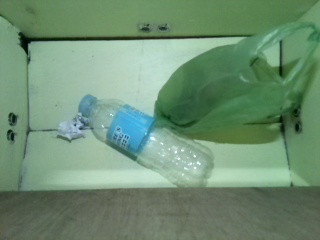bottle: (77, 93, 214, 189)
paper: (55, 116, 88, 140)
plastic-bag: (152, 16, 320, 128)
